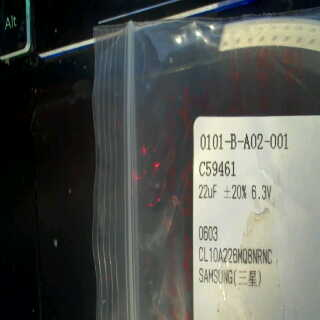22uF: (193, 182, 220, 203)
